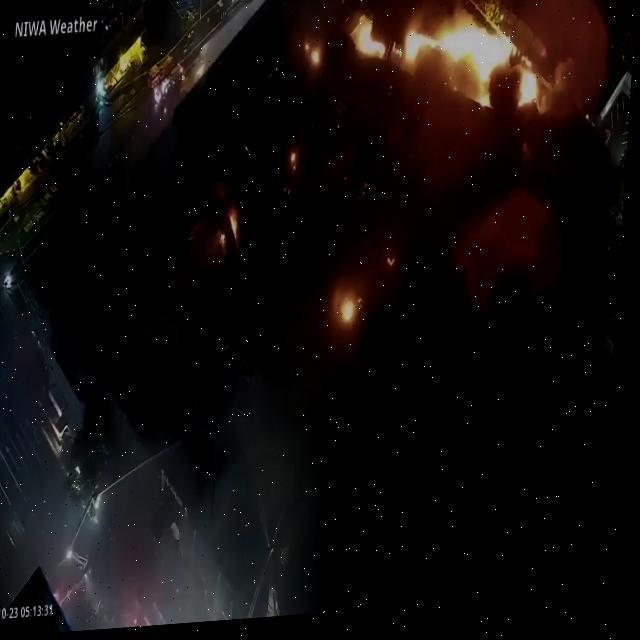Fire: (392, 17, 516, 104), (356, 24, 389, 68), (518, 71, 542, 118), (342, 302, 361, 328), (304, 41, 320, 68), (230, 212, 243, 245), (291, 150, 302, 178), (222, 233, 231, 249), (390, 259, 400, 273)
